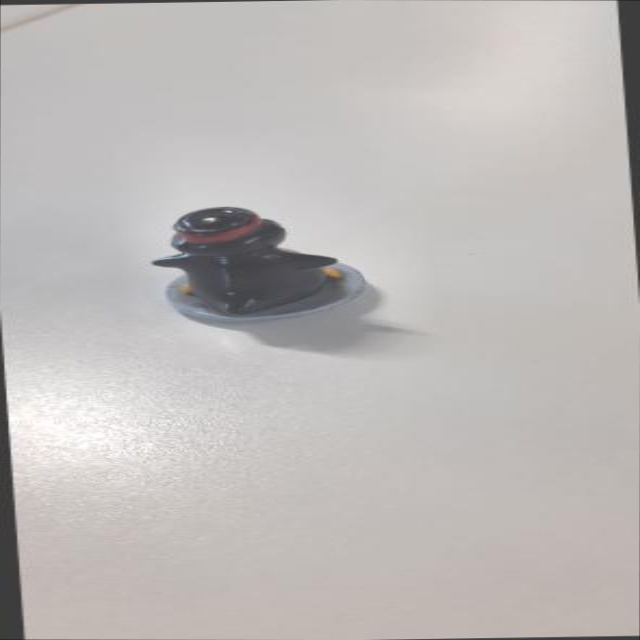Penguin: (148, 200, 373, 330)
